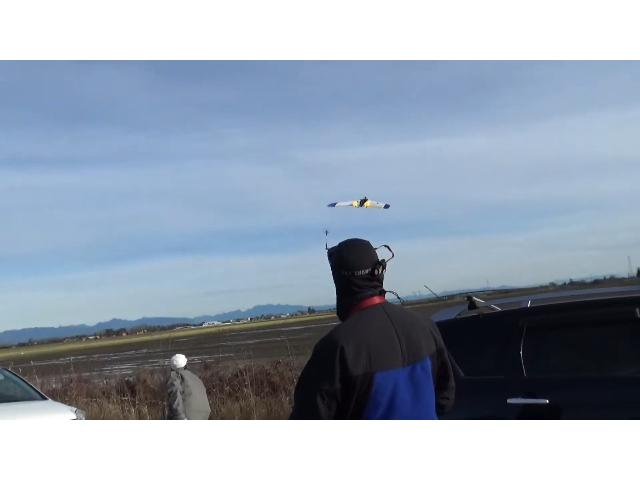Anti-Drone: (327, 196, 391, 209)
